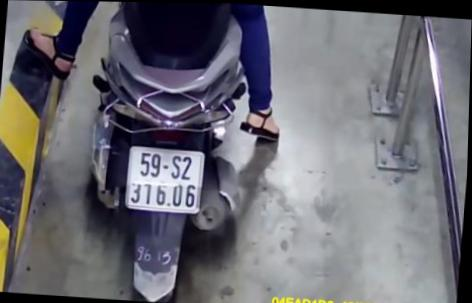LP: (123, 142, 208, 216)
